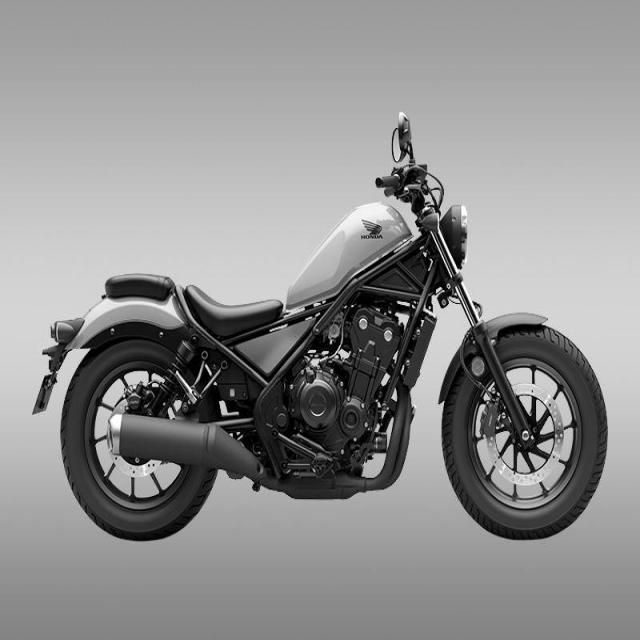Motorcycle: (34, 113, 609, 540)
